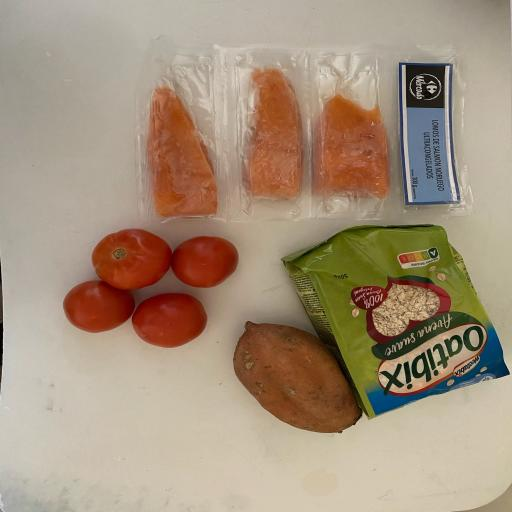oats: (289, 223, 506, 416)
salmon: (142, 82, 224, 220), (239, 66, 310, 201), (308, 90, 395, 199)
sweet_potato: (230, 319, 364, 437)
tomato: (90, 226, 172, 292), (130, 289, 210, 350), (170, 232, 244, 292), (61, 277, 135, 337)
